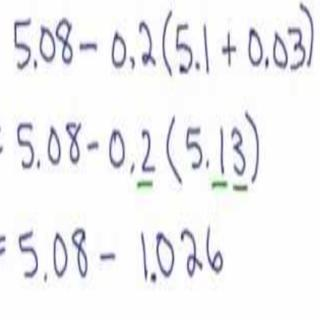.: (128, 54, 136, 70), (127, 161, 136, 174), (263, 54, 270, 69), (150, 270, 158, 283), (204, 157, 211, 169), (42, 270, 48, 284), (35, 158, 42, 169), (32, 58, 38, 70), (194, 60, 201, 70)
0: (155, 232, 176, 279), (51, 231, 69, 279), (107, 128, 126, 170), (245, 27, 264, 68), (38, 24, 56, 64), (46, 123, 62, 167), (272, 29, 289, 70), (110, 31, 127, 69)
1: (138, 231, 150, 282), (201, 23, 211, 74), (217, 127, 227, 176)
2: (180, 228, 203, 279), (137, 20, 158, 66), (138, 127, 158, 174)
3: (229, 126, 247, 178), (288, 26, 307, 72)
5: (11, 16, 32, 71), (17, 230, 40, 278), (173, 22, 194, 74), (15, 121, 35, 171), (183, 125, 204, 171)
6: (204, 224, 225, 275)
8: (55, 16, 76, 66), (71, 227, 91, 279), (64, 121, 84, 166)
